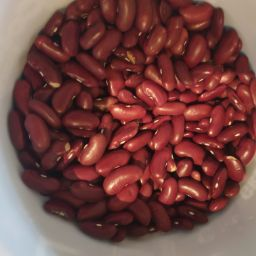Pinto Beans (kidney beans): (14, 7, 252, 235), (49, 75, 190, 169)
